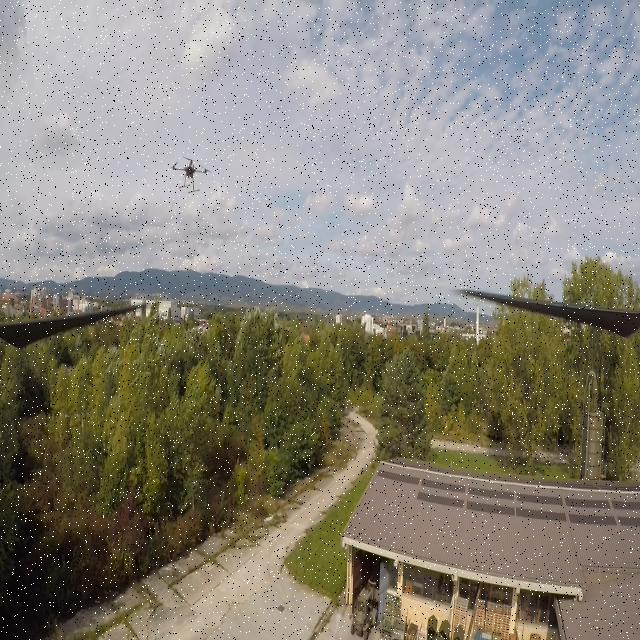UAV: (163, 150, 217, 197)
